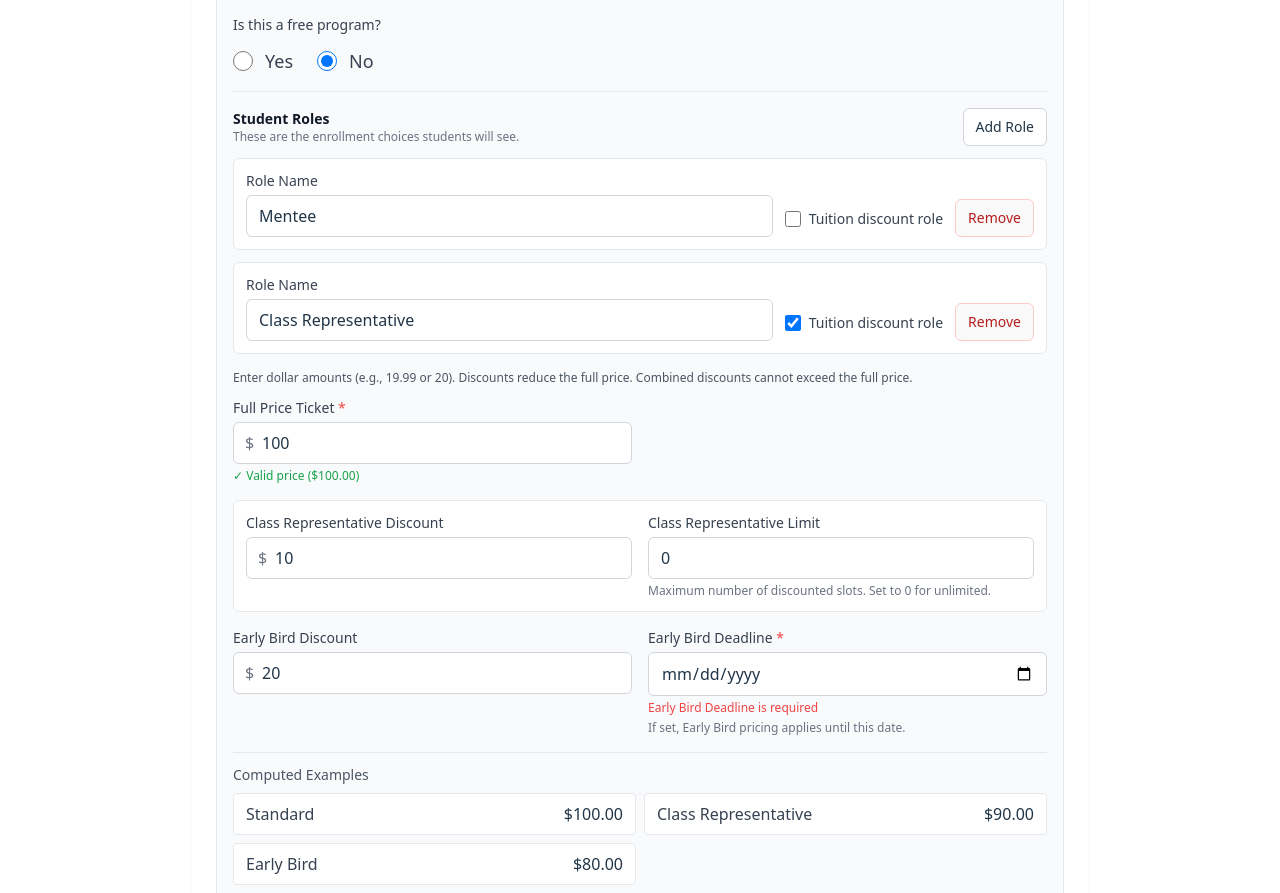
Test: EditProgram - Pricing Confirmation › shows second confirmation step after clicking Continue
The image size is (1280, 893).
(page scrolled)
# Change the full price ticket value
Replace the text in the number field labelled "Full Price Ticket *" with "150" at (432, 443), box [233,422,632,464]
(page scrolled)
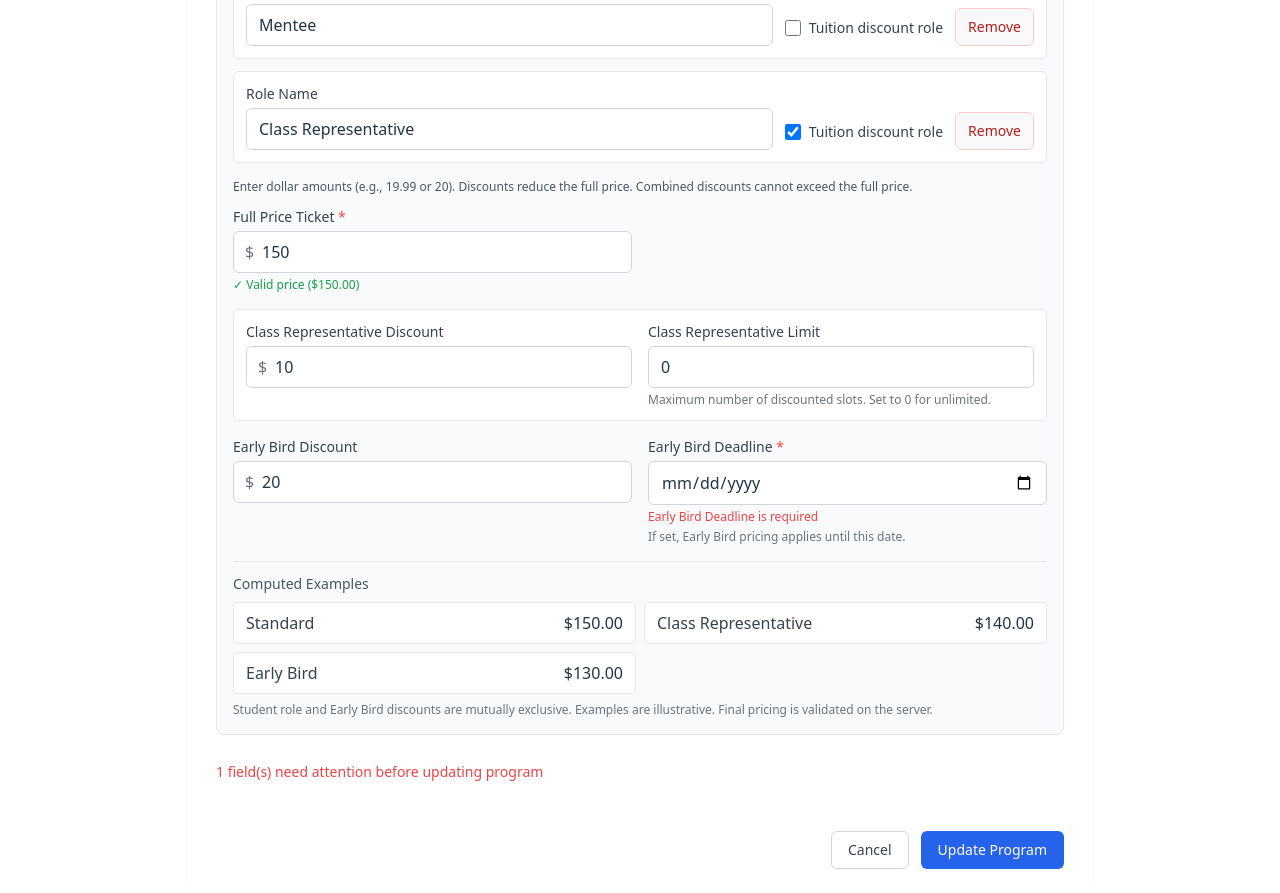
Click the button "Update Program" at (992, 850), box [921,831,1064,869]
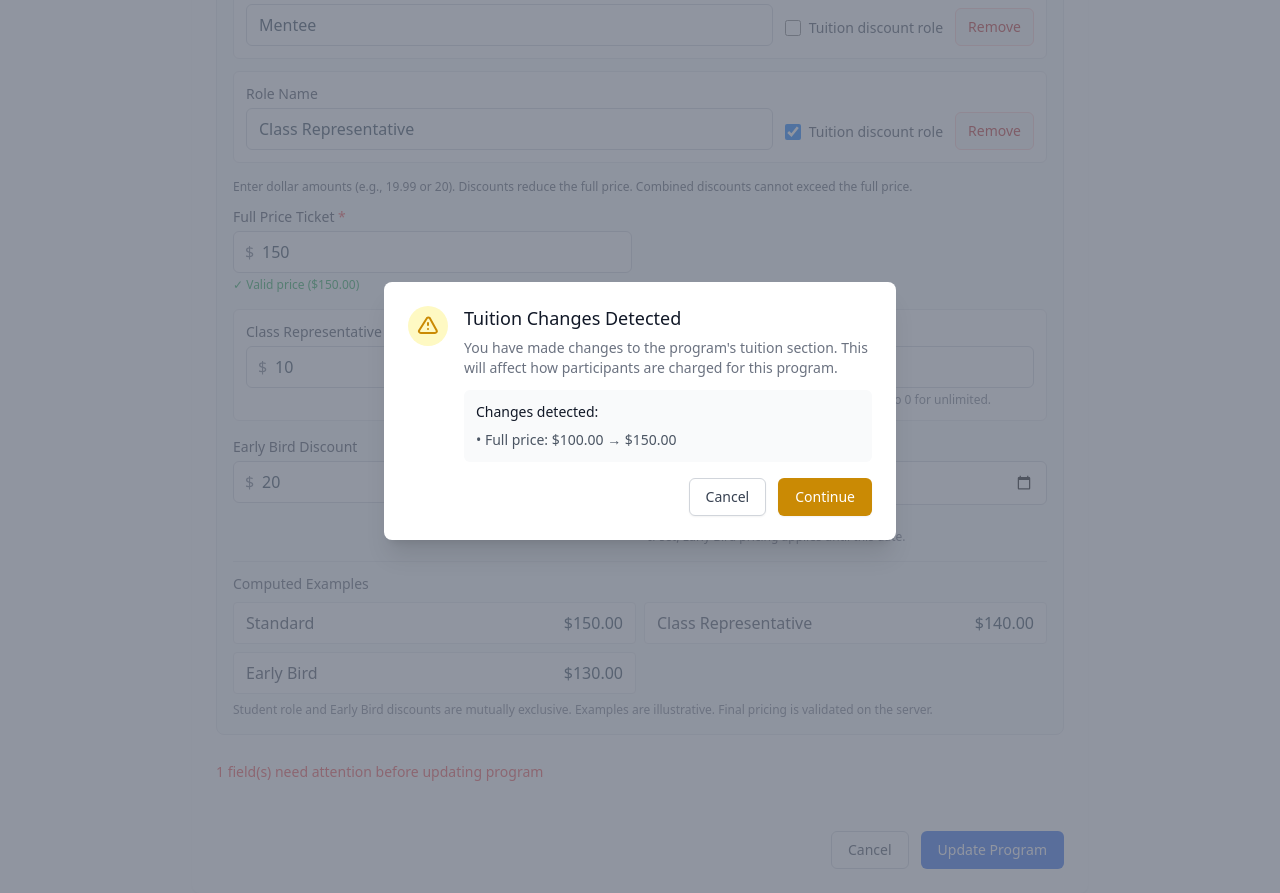
Click the button "Continue" at (825, 497), box [778,478,872,516]
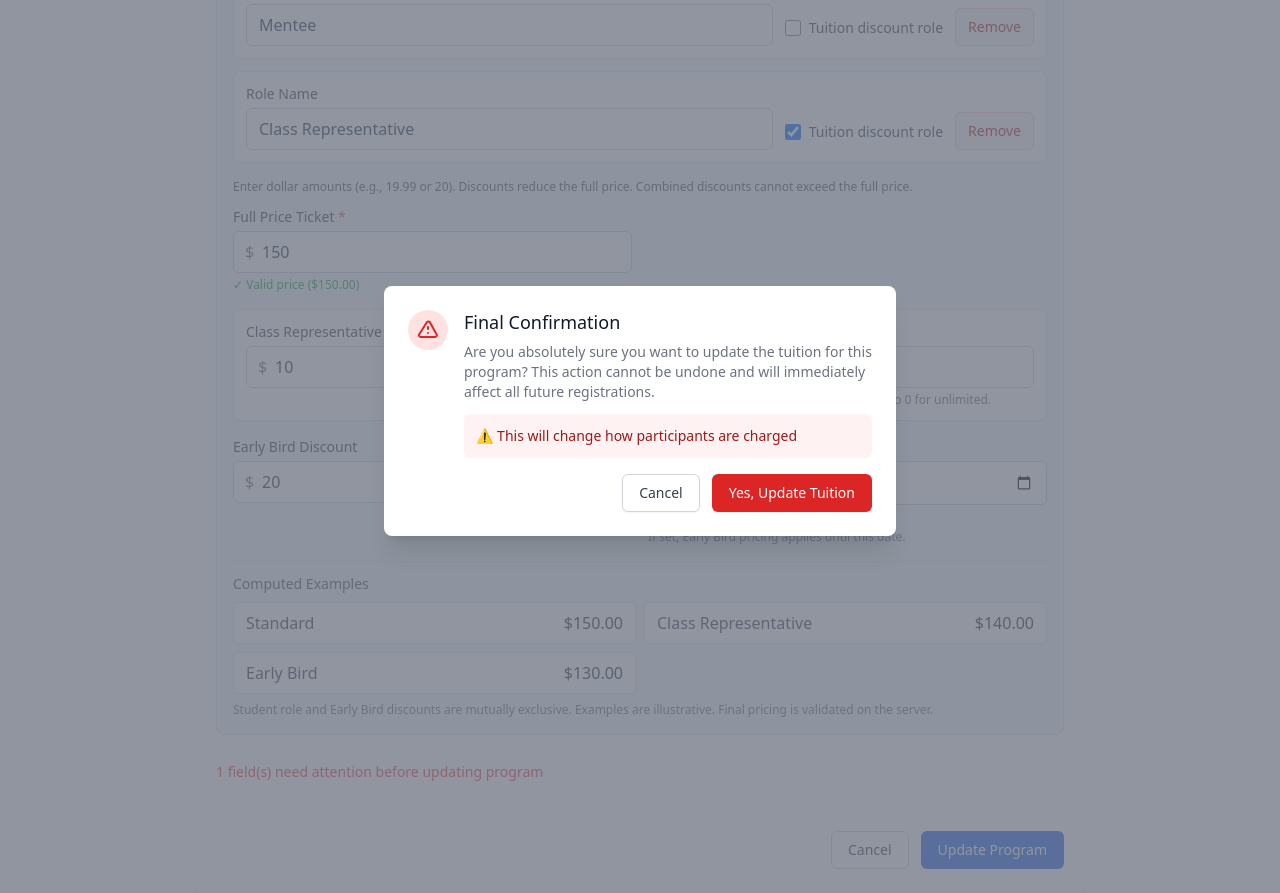
Now the heading "Final Confirmation" is shown, box [464,310,620,334]
Now the text "Are you absolutely sure you want to update the tuition" is shown, box [464,342,872,401]
Now the button "Yes, Update Tuition" is shown, box [712,474,872,512]
